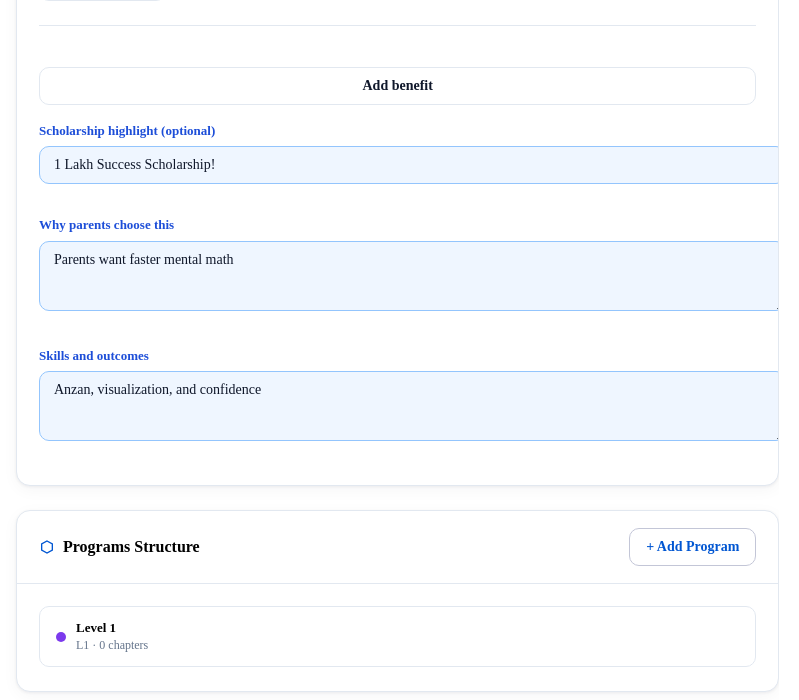
Test: CurriculumPage › shows chapters panel when program accordion expanded
(page scrolled)
expect the heading "Programs Structure" is shown: met, box [63,538,200,556]
Click the button with class "ed-curriculum-program-outline" at (96, 628), box [39,606,756,667]
(page scrolled)
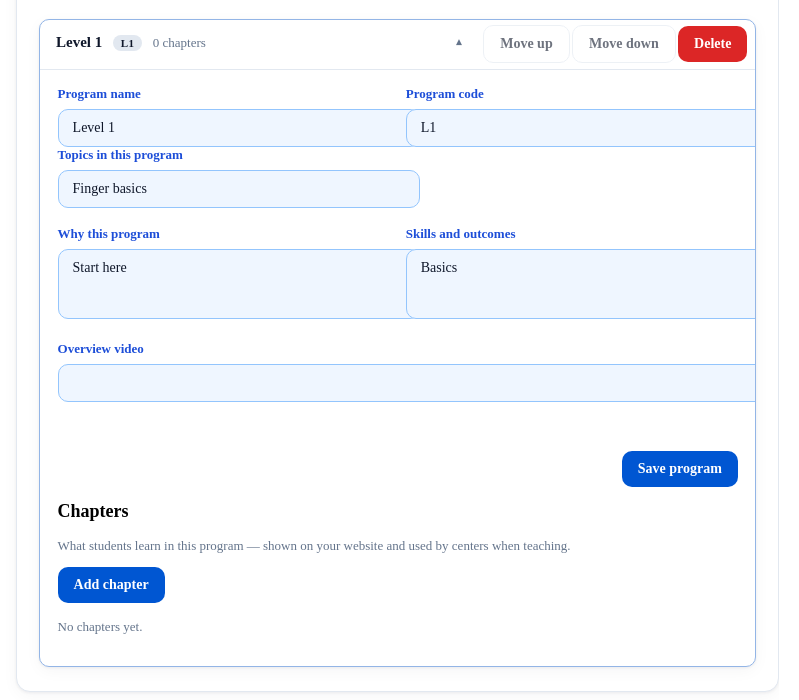
expect the heading "Chapters" is shown: met, box [58,501,129,521]
expect the button "Add chapter" is shown: met, box [58,567,165,603]
expect the button "Save program" is shown: met, box [622,451,738,487]
